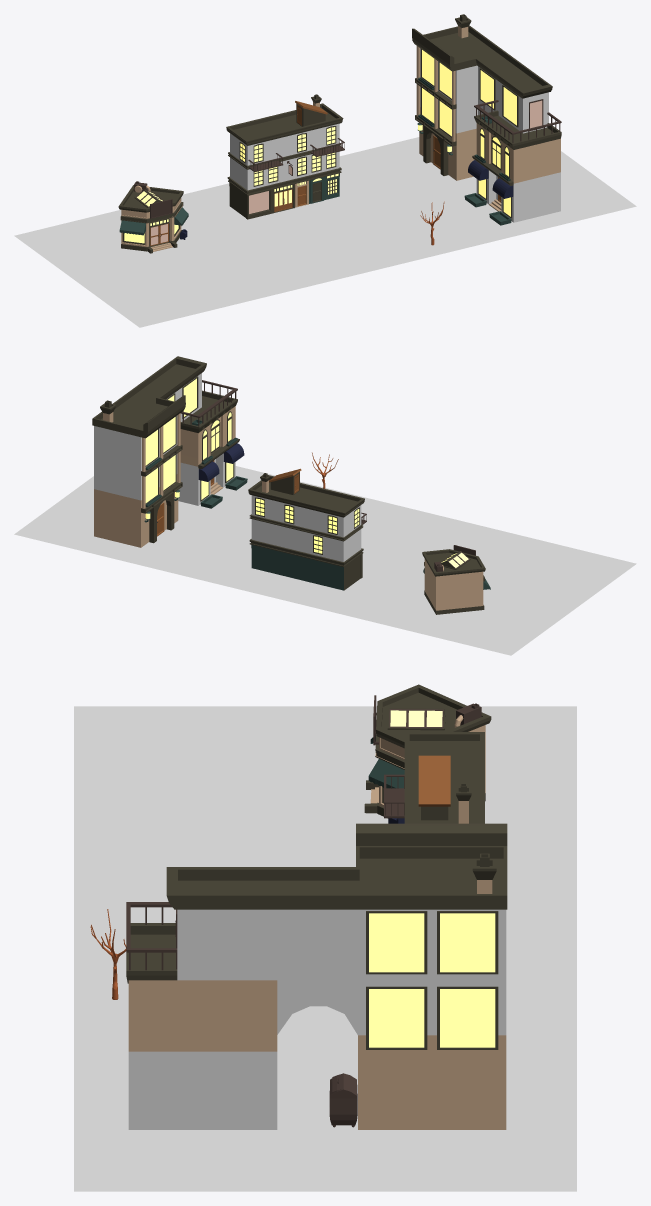
The model's file is mesto.fbx.
3 renders of one model, top to bottom at view 1: azimuth 30°, elevation 25°; view 2: azimuth 150°, elevation 25°; view 3: azimuth 270°, elevation 25°, orthographic. The views are drawn at different scales.
Visible parts, largest first — view 1: Plane, House 2, House 1, Shop; view 2: Plane, House 2, House 1, Shop; view 3: Plane, House 2, House 1, Shop.
Part boxes in pixels (x1=…): Plane: x1=14, y1=137, x2=636, y2=327; House 2: x1=412, y1=14, x2=561, y2=225; House 1: x1=226, y1=94, x2=344, y2=219; Shop: x1=118, y1=181, x2=188, y2=253; Plane: x1=14, y1=466, x2=636, y2=655; House 2: x1=92, y1=356, x2=247, y2=547; House 1: x1=248, y1=468, x2=366, y2=590; Shop: x1=422, y1=545, x2=490, y2=614; Plane: x1=74, y1=706, x2=576, y2=1191; House 2: x1=126, y1=823, x2=507, y2=1129; House 1: x1=384, y1=732, x2=484, y2=823; Shop: x1=364, y1=684, x2=491, y2=823.
Size of the model in its own units: 12979 by 3326 by 5685.
